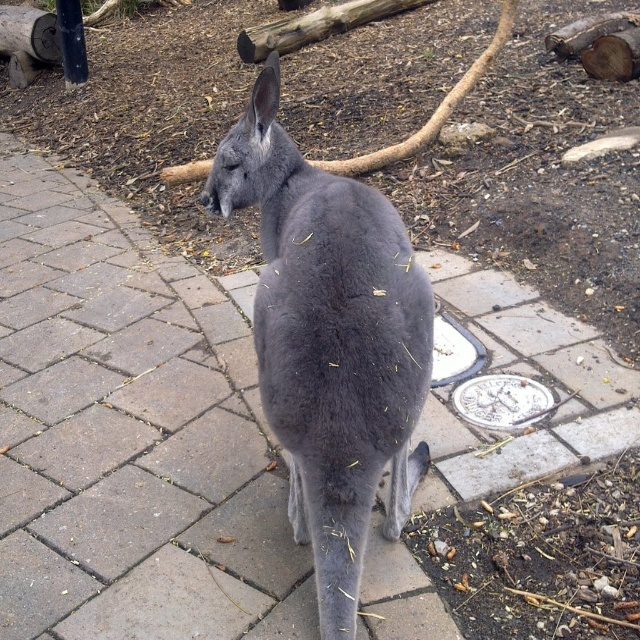Kangaroo: (196, 48, 433, 640)
